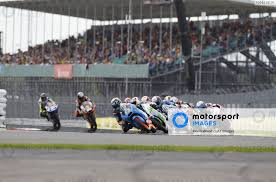helmet: (110, 97, 122, 109), (38, 91, 49, 103), (74, 92, 86, 101)
